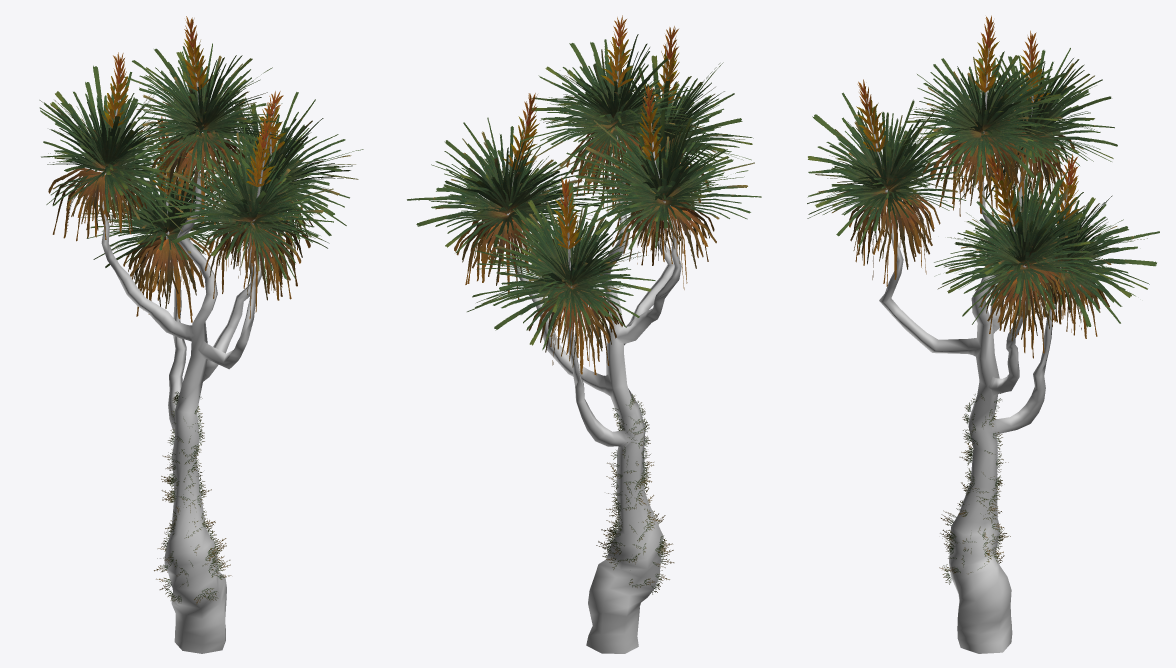
File: Tree_09_1_L2.fbx
The picture shows the model from 3 angles, left to right: view 1: azimuth 30°, elevation 25°; view 2: azimuth 150°, elevation 25°; view 3: azimuth 270°, elevation 25°; orthographic projection.
Parts seen in each view (by area): view 1: polySurface57; view 2: polySurface57; view 3: polySurface57.
Boxes of the visible parts, bbox=[...] form: polySurface57: bbox=[39, 16, 363, 653]; polySurface57: bbox=[407, 15, 761, 653]; polySurface57: bbox=[807, 15, 1159, 653].
Bounding box in the file's own units: 669 × 1236 × 658.
